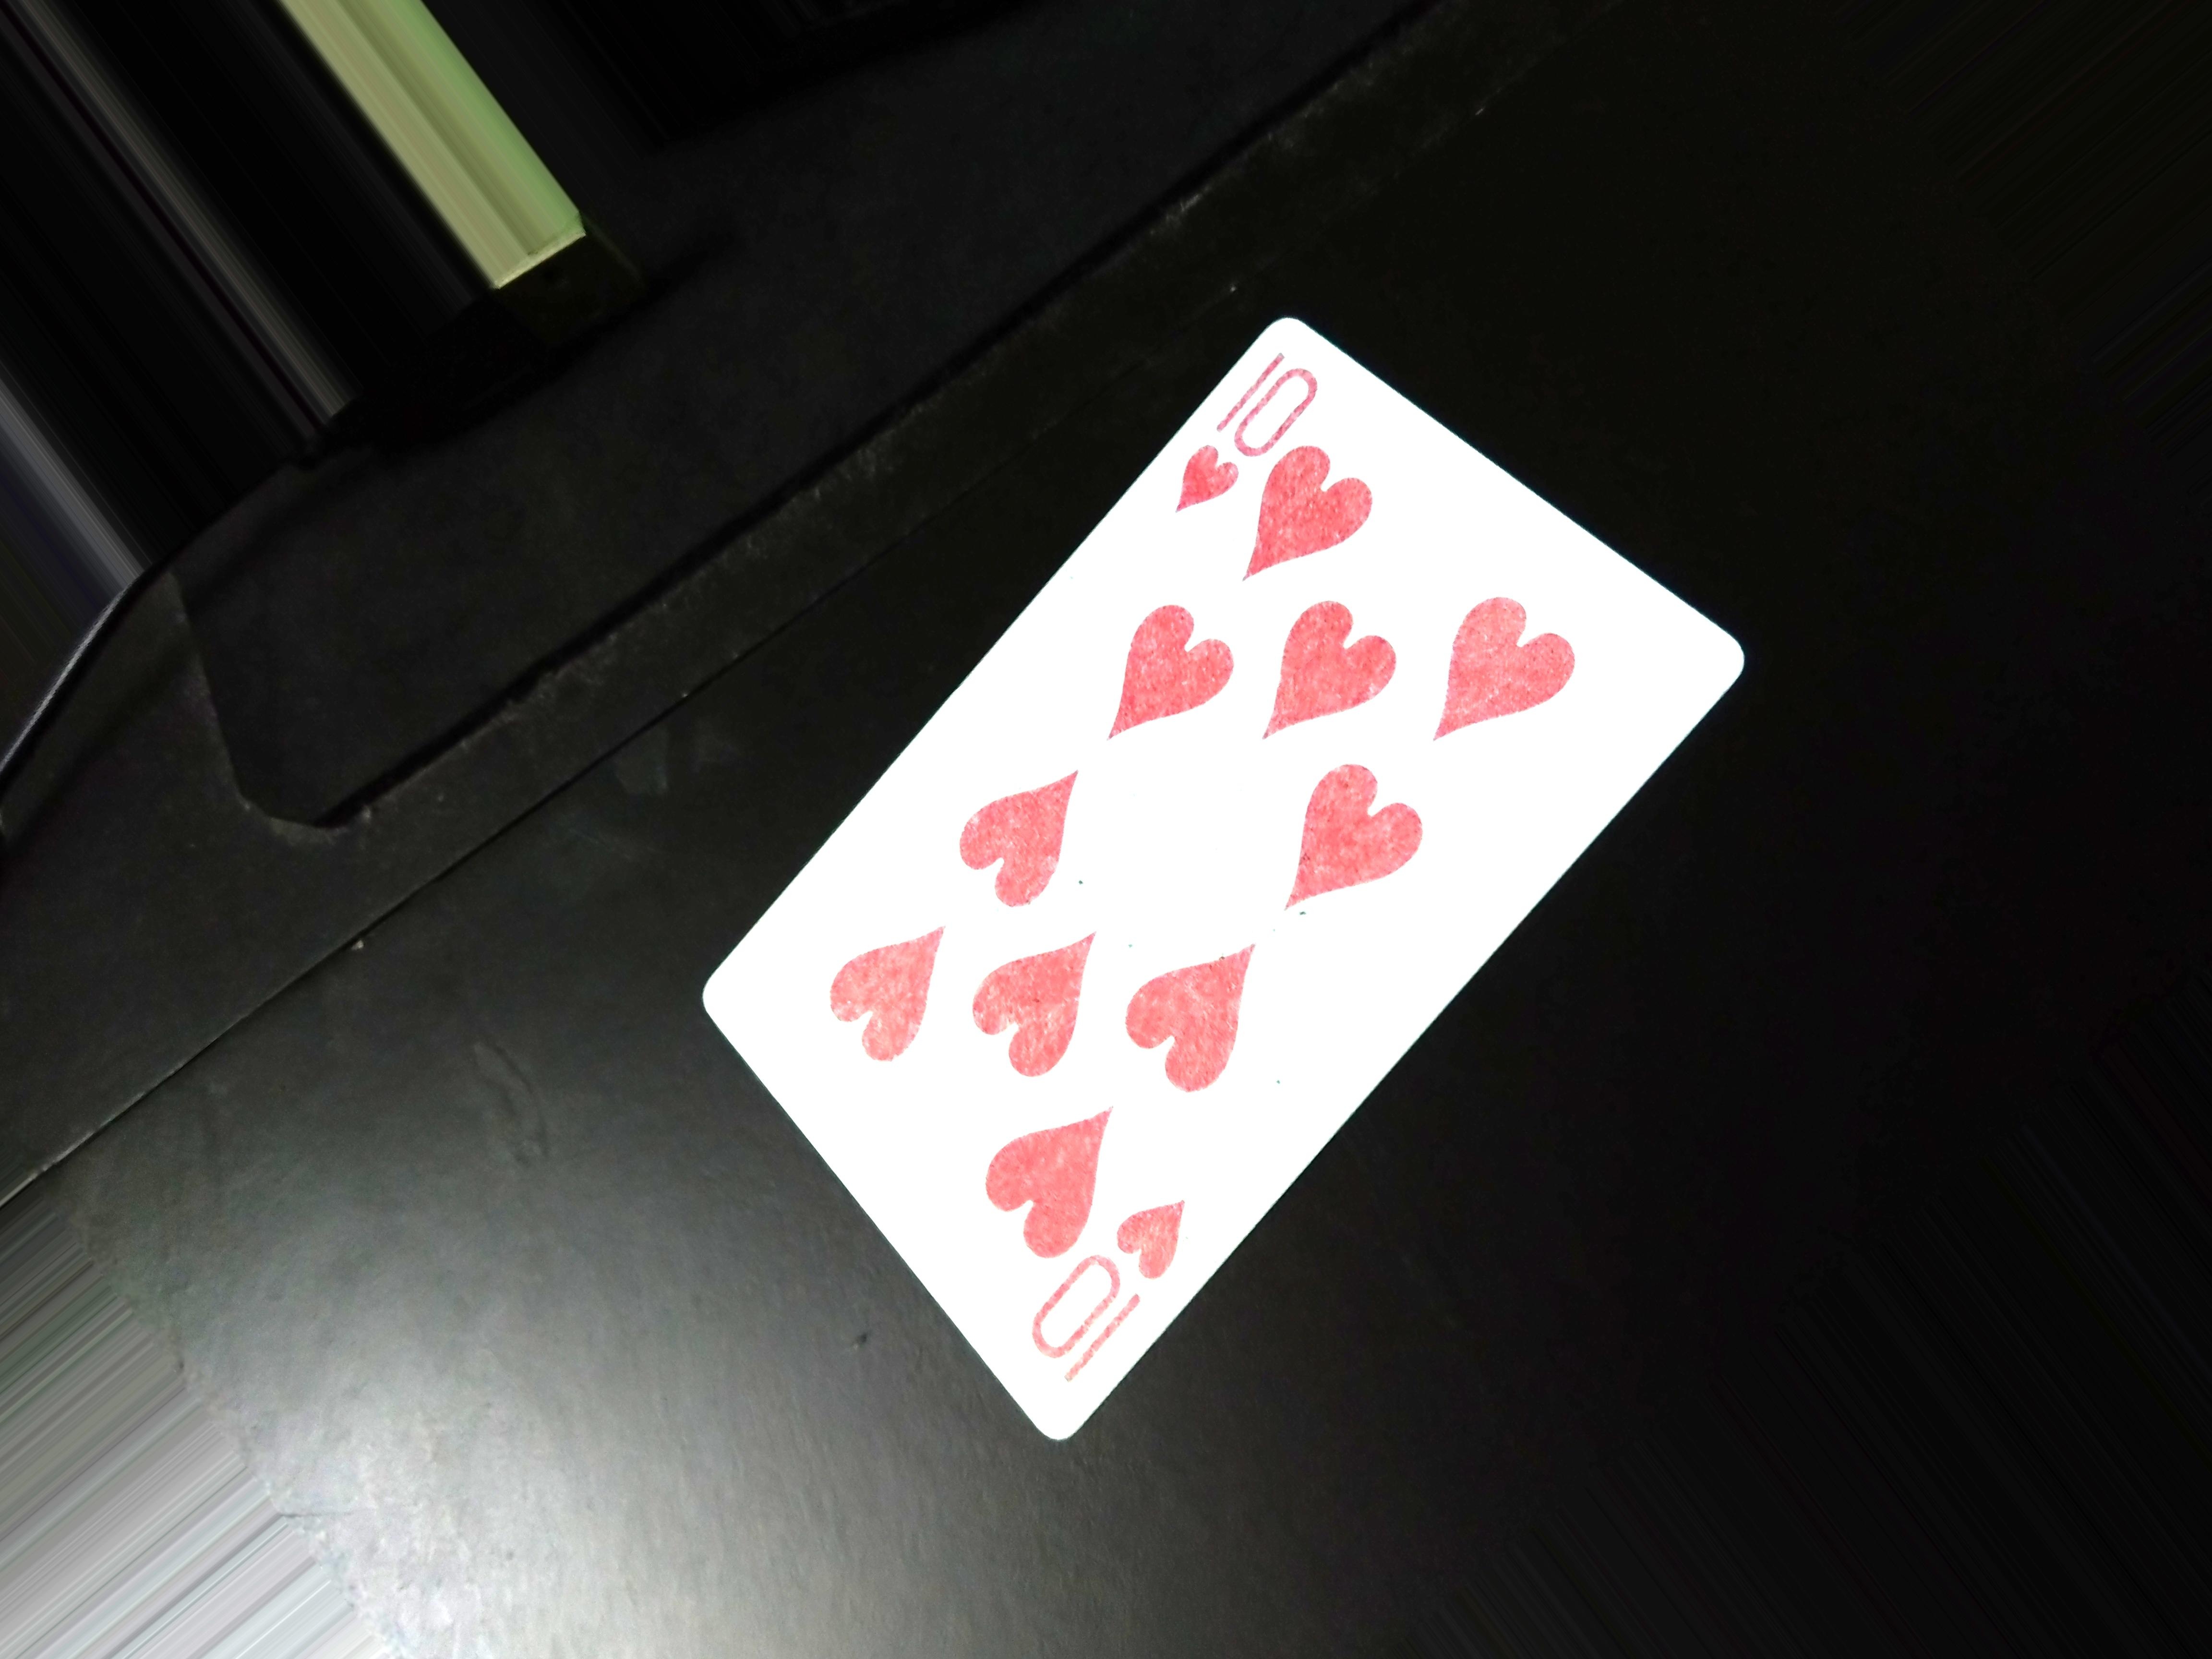10H: (1174, 336, 1325, 511)
